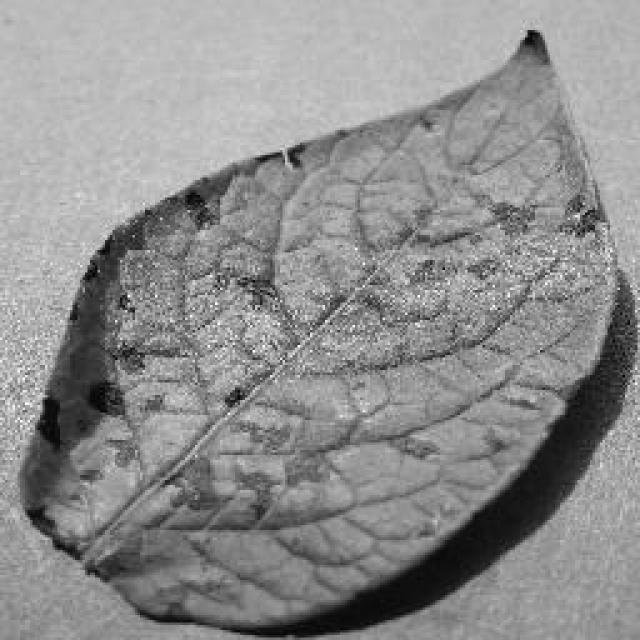Potato: (15, 25, 620, 635)
